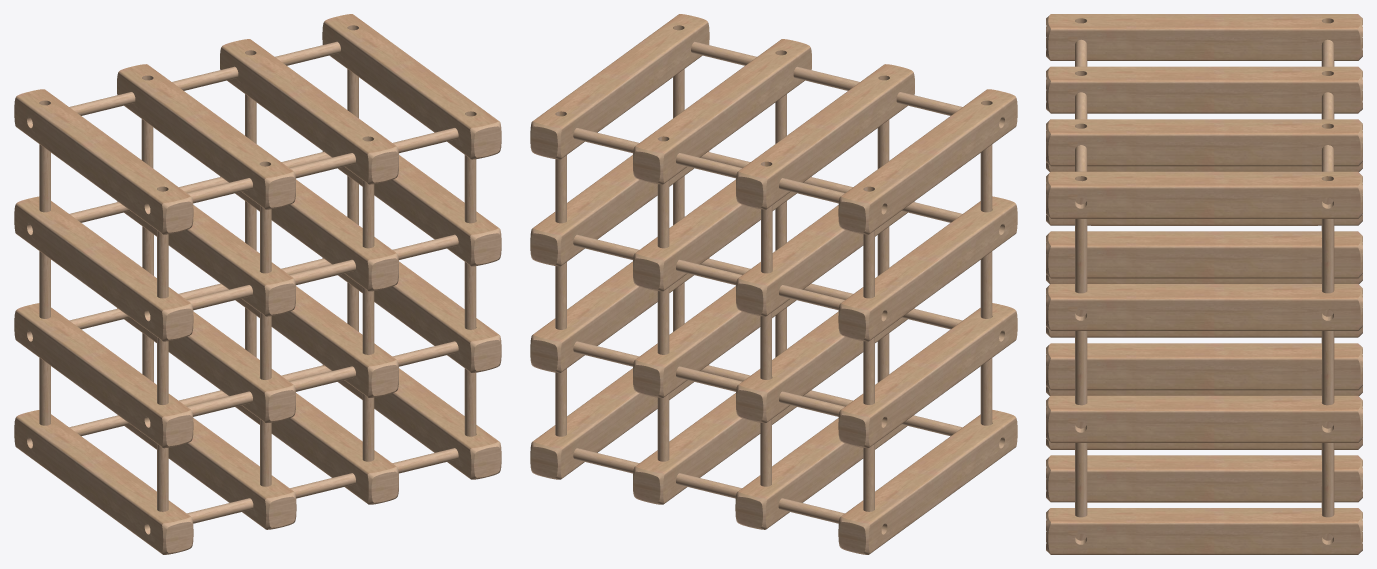
File: frassino-grezzo.gltf
3 renders of one model, left to right at view 1: azimuth 30°, elevation 25°; view 2: azimuth 150°, elevation 25°; view 3: azimuth 270°, elevation 25°, orthographic. The views are drawn at different scales.
Parts seen in each view (by area): view 1: Cube.041, Cube.020, Cube.042, Cube.070, Cube.046, Cube.043, Cube.045, Cube.044, Cube.024, Cube.073, Cube.039, Cube.016 (+37 smaller); view 2: Cube.041, Cube.020, Cube.042, Cube.070, Cube.046, Cube.043, Cube.045, Cube.044, Cube.024, Cube.073, Cube.039, Cube.016 (+37 smaller); view 3: Cube.046, Cube.022, Cube.043, Cube.045, Cube.016, Cube.039, Cube.041, Cube.017, Cube.019, Cube.027, Cube.024, Cube.044 (+10 smaller).
Boxes of the visible parts, x1=… form: Cube.041: x1=14, y1=89, x2=193, y2=234; Cube.020: x1=14, y1=196, x2=193, y2=341; Cube.042: x1=14, y1=410, x2=193, y2=554; Cube.070: x1=14, y1=303, x2=193, y2=448; Cube.046: x1=322, y1=14, x2=501, y2=159; Cube.043: x1=117, y1=64, x2=295, y2=209; Cube.045: x1=220, y1=39, x2=398, y2=184; Cube.044: x1=124, y1=418, x2=296, y2=529; Cube.024: x1=117, y1=201, x2=295, y2=316; Cube.073: x1=117, y1=308, x2=295, y2=422; Cube.039: x1=322, y1=151, x2=501, y2=266; Cube.016: x1=322, y1=364, x2=501, y2=479; Cube.041: x1=838, y1=89, x2=1017, y2=234; Cube.020: x1=838, y1=196, x2=1017, y2=341; Cube.042: x1=838, y1=410, x2=1017, y2=554; Cube.070: x1=838, y1=303, x2=1017, y2=448; Cube.046: x1=530, y1=14, x2=709, y2=159; Cube.043: x1=736, y1=64, x2=914, y2=209; Cube.045: x1=633, y1=39, x2=811, y2=184; Cube.044: x1=735, y1=418, x2=907, y2=529; Cube.024: x1=736, y1=201, x2=914, y2=316; Cube.073: x1=736, y1=308, x2=914, y2=422; Cube.039: x1=530, y1=151, x2=709, y2=266; Cube.016: x1=530, y1=364, x2=709, y2=479; Cube.046: x1=1046, y1=171, x2=1362, y2=218; Cube.022: x1=1046, y1=395, x2=1362, y2=442; Cube.043: x1=1046, y1=66, x2=1362, y2=113; Cube.045: x1=1046, y1=119, x2=1362, y2=166; Cube.016: x1=1046, y1=508, x2=1362, y2=554; Cube.039: x1=1046, y1=284, x2=1362, y2=330; Cube.041: x1=1046, y1=14, x2=1362, y2=60; Cube.017: x1=1046, y1=455, x2=1362, y2=502; Cube.019: x1=1046, y1=343, x2=1362, y2=390; Cube.027: x1=1046, y1=231, x2=1362, y2=278; Cube.024: x1=1046, y1=183, x2=1362, y2=225; Cube.044: x1=1046, y1=407, x2=1362, y2=449.
Bounding box in the file's own units: 66.83 × 66.42 × 51.62.
